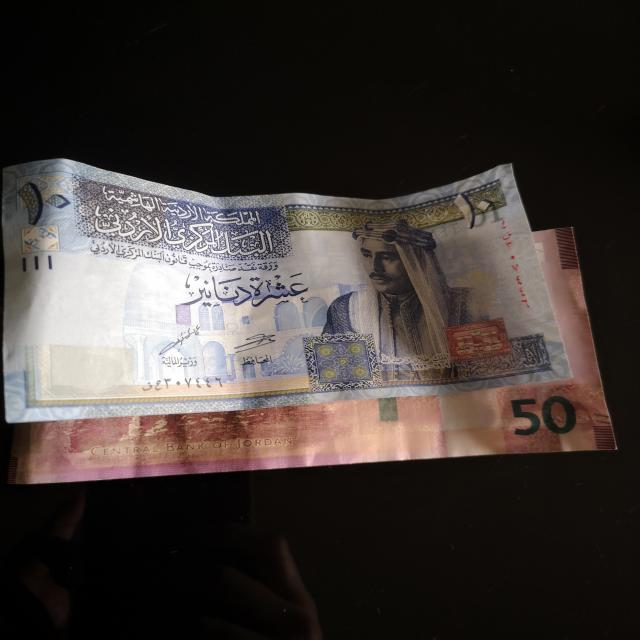5-coins: (1, 158, 574, 424)
50-dinar: (7, 227, 617, 484)
